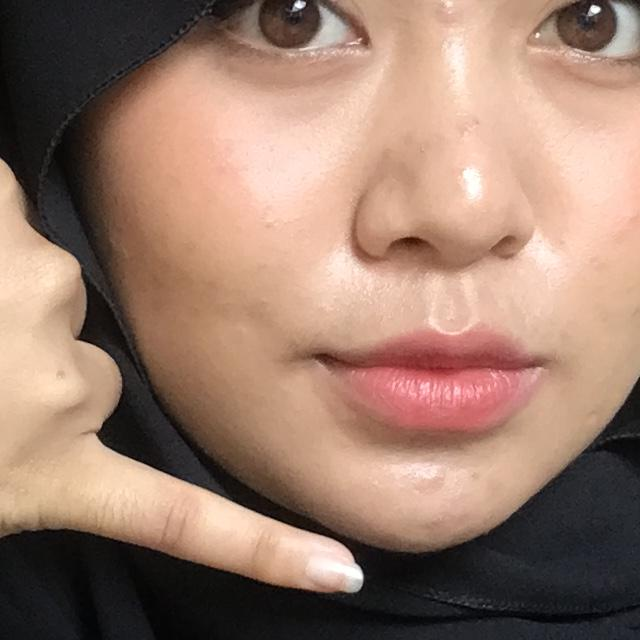telpon: (0, 0, 385, 640)
